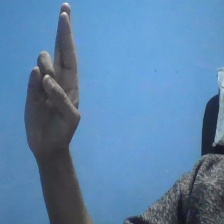R: (20, 1, 89, 158)
